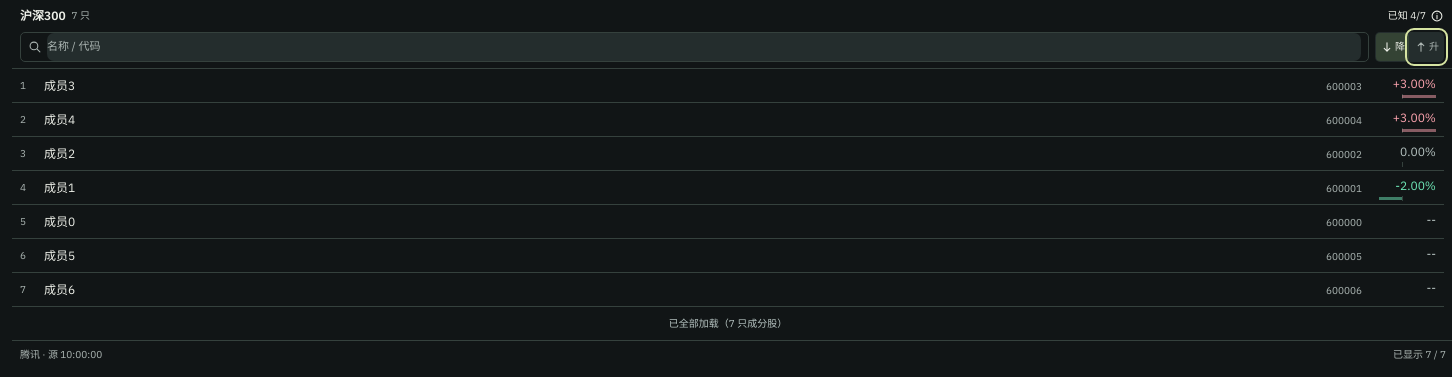
Test: 指数成分列表 › 默认按全返回成员的有限涨幅降序，升序仍把未知置尾并保留同值源顺序
The image size is (1452, 377).
Expected: the text "7 只" is shown, [72, 8, 90, 24]
Expected: the text "0.00%" is shown, [1400, 143, 1436, 161]
Click the button named "涨跌幅升序" at (1426, 47), box [1410, 33, 1443, 61]
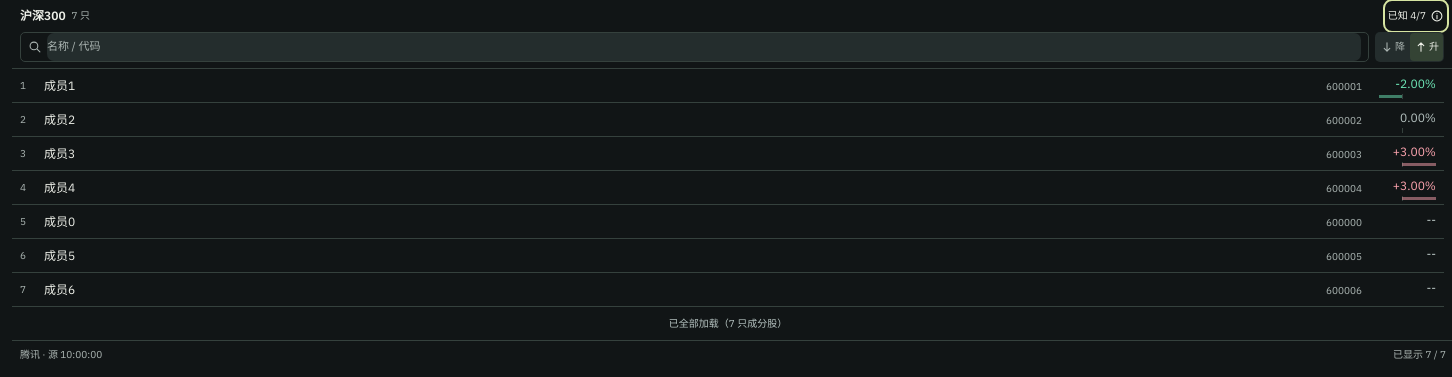
Expected: the text "已知 4/7" is shown, [1388, 8, 1426, 24]
Result: the button named "涨跌幅升序" is pressed at [1410, 33, 1443, 61]
Focus the button with aria-label "查看数据来源与排序口径" at (1416, 16), box [1388, 4, 1444, 28]
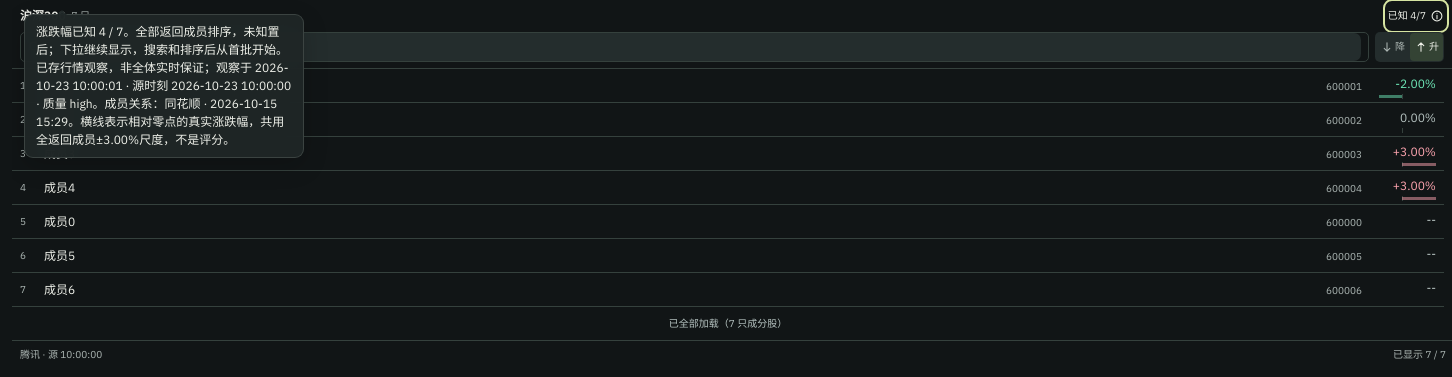
Result: the tooltip shows "全部返回成员排序" at [36, 24, 291, 147]
